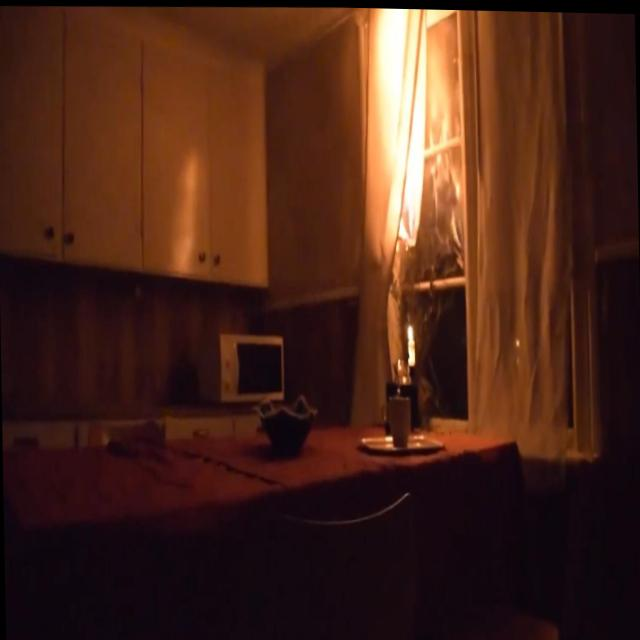fire: (368, 6, 438, 246), (406, 319, 414, 337)
